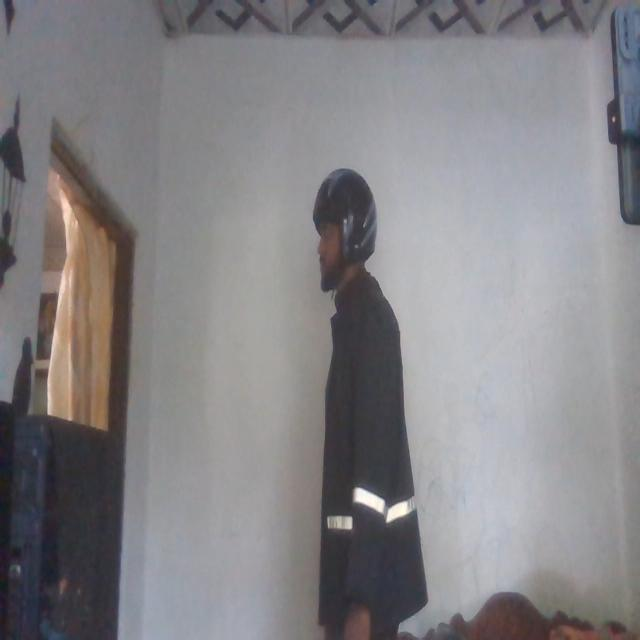Helmet_Wearer: (315, 174, 375, 290)
Jacket_Wearer: (313, 275, 425, 637)
Person: (306, 160, 430, 640)
